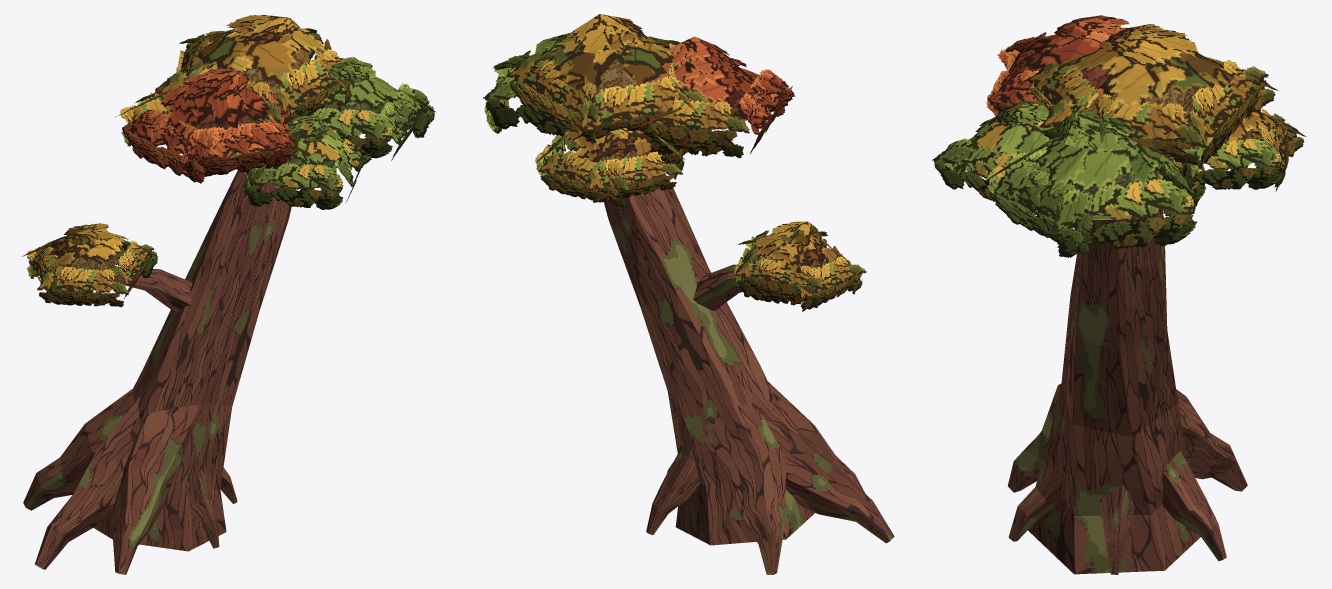
The model's file is SM_TR04_Leaning.fbx.
3 views of the same model, side by side, from view 1: azimuth 30°, elevation 25°; view 2: azimuth 150°, elevation 25°; view 3: azimuth 270°, elevation 25° (orthographic). The views are drawn at different scales.
Parts seen in each view (by area): view 1: TR04_Crown, TR04_Bark; view 2: TR04_Crown, TR04_Bark; view 3: TR04_Crown, TR04_Bark.
Boxes of the visible parts, bbox=[...] form: TR04_Crown: bbox=[22, 14, 436, 307]; TR04_Bark: bbox=[23, 96, 295, 574]; TR04_Crown: bbox=[483, 14, 866, 311]; TR04_Bark: bbox=[604, 151, 894, 574]; TR04_Crown: bbox=[932, 15, 1306, 257]; TR04_Bark: bbox=[1008, 170, 1247, 574].
Size of the model in its own units: 5.94 by 6.67 by 4.08.
